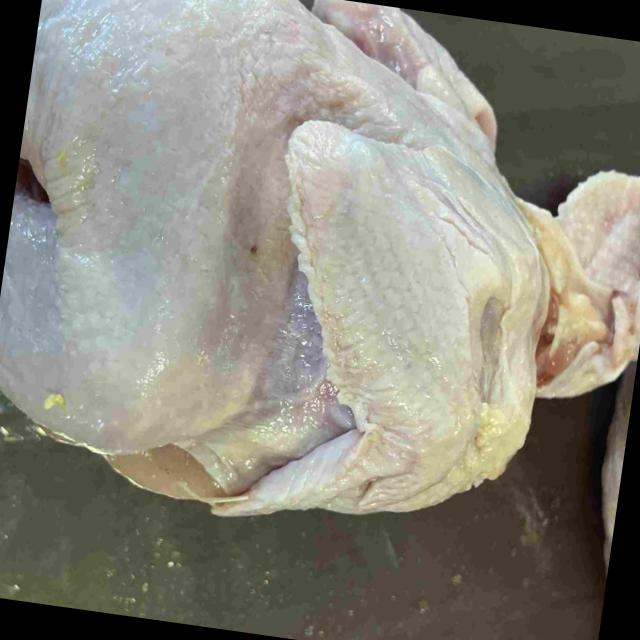back: (28, 0, 478, 175)
leg: (0, 91, 293, 448)
wing: (204, 121, 479, 520), (542, 167, 640, 397)
